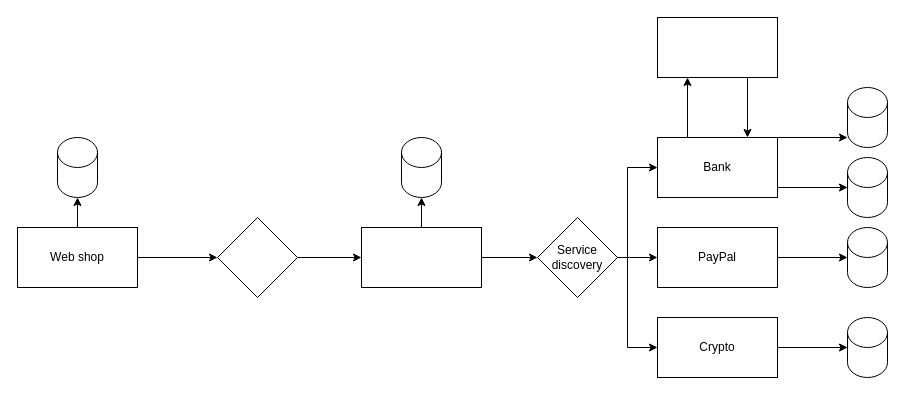
The diagram is 905 pixels wide and 395 high, and some of its shapes have lost their labels. Each missing label, with the centre of its shape:
"API gateway" goes at pixel 257 257.
"PCC" goes at pixel 717 47.
"PSP" goes at pixel 421 257.
